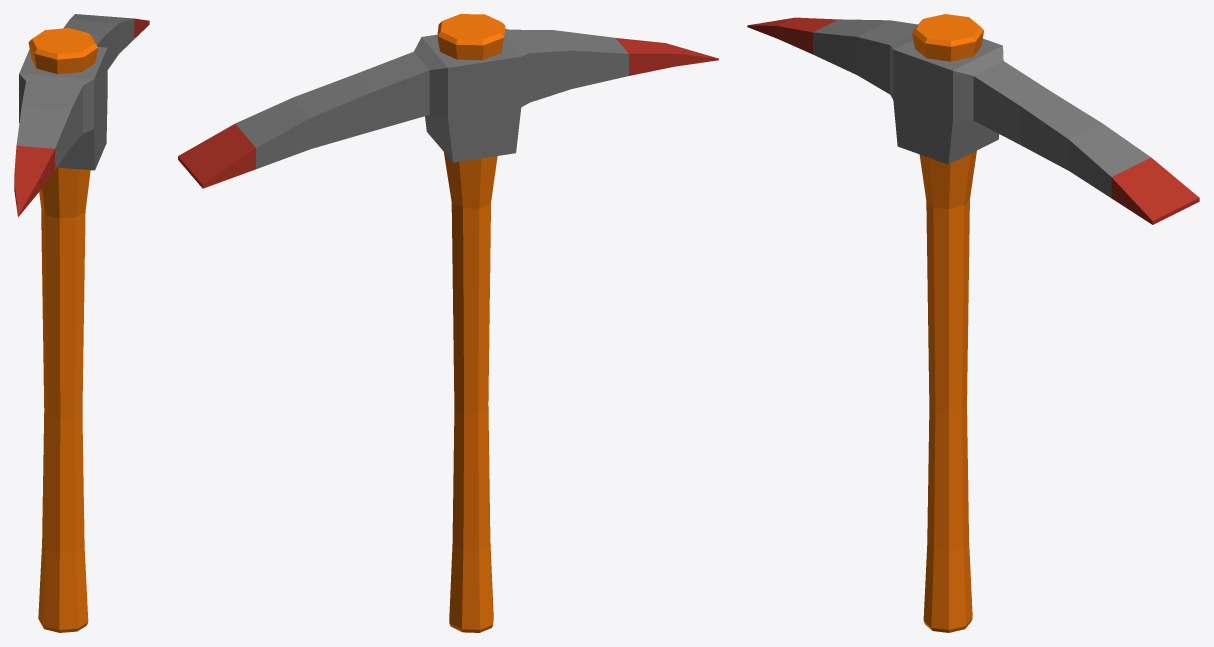
The model's file is PickAxe.fbx.
The picture shows the model from 3 angles, left to right: view 1: azimuth 30°, elevation 25°; view 2: azimuth 150°, elevation 25°; view 3: azimuth 270°, elevation 25°; orthographic projection. The views are drawn at different scales.
Parts seen in each view (by area): view 1: PickAxe; view 2: PickAxe; view 3: PickAxe.
Part boxes in pixels (x1=…): PickAxe: x1=14, y1=14, x2=149, y2=632; PickAxe: x1=178, y1=14, x2=718, y2=632; PickAxe: x1=747, y1=14, x2=1199, y2=632.
Bounding box in the file's own units: 167 × 281 × 194.
